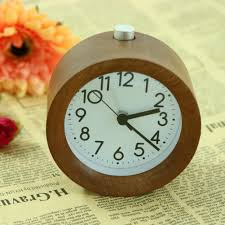alarm_clock: (43, 22, 201, 196), (51, 22, 201, 196)
